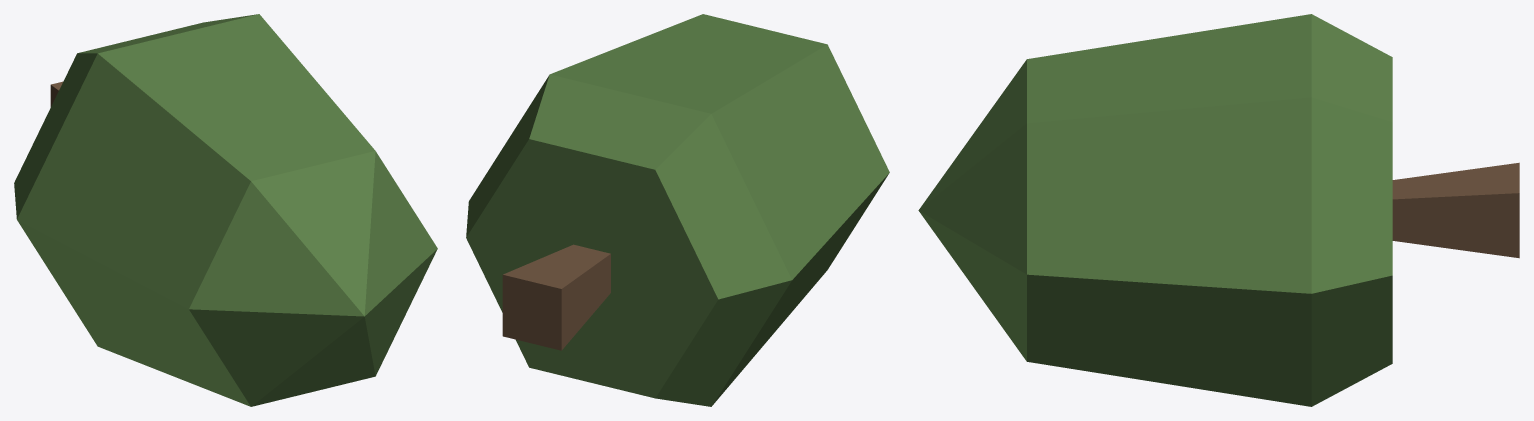
The model's file is tree-model-broad-26-ft.obj.
3 views of the same model, side by side, from view 1: azimuth 30°, elevation 25°; view 2: azimuth 150°, elevation 25°; view 3: azimuth 270°, elevation 25° (orthographic). The views are drawn at different scales.
Visible parts, largest first — view 1: tree-model-broad-26-ft; view 2: tree-model-broad-26-ft; view 3: tree-model-broad-26-ft.
Part boxes in pixels (x1,y1,x2,y2): tree-model-broad-26-ft: [14, 14, 437, 406]; tree-model-broad-26-ft: [466, 14, 889, 406]; tree-model-broad-26-ft: [918, 14, 1519, 406].
Size of the model in its own units: 205 by 177 by 312.
